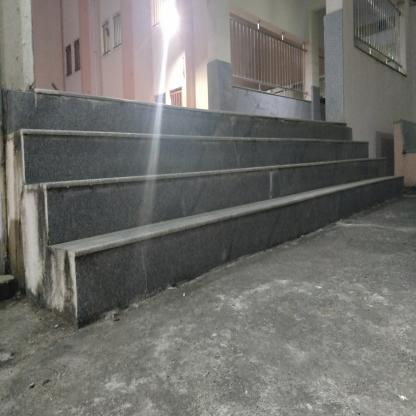stairs: (78, 118, 355, 231)
